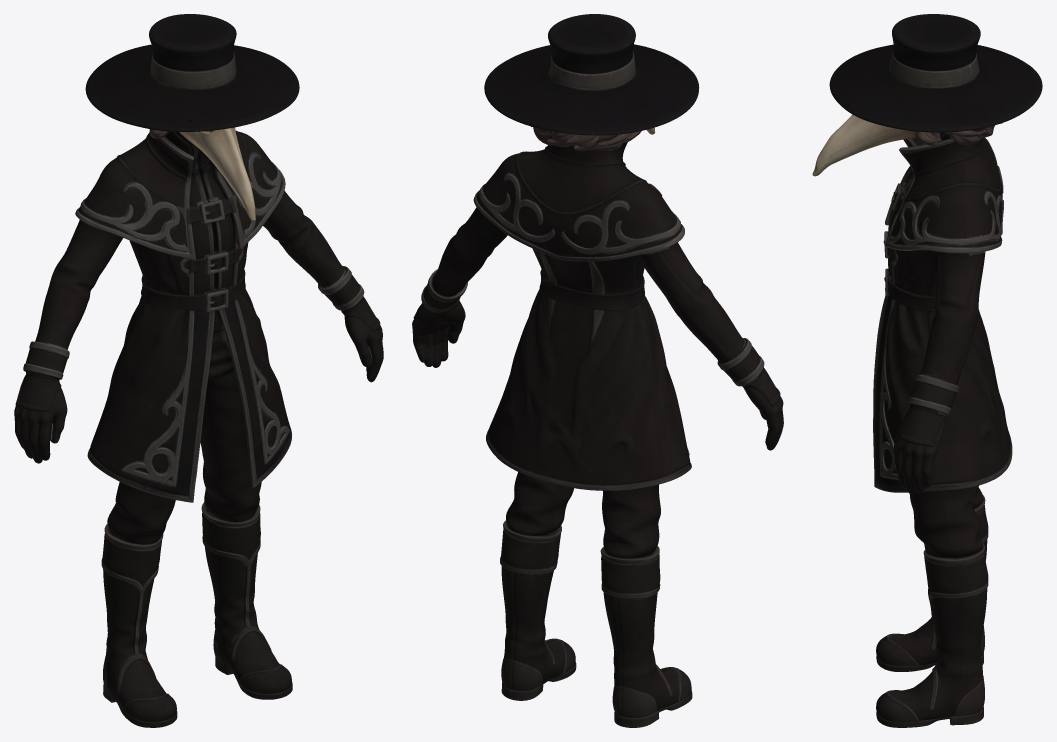
The model's file is plague-doctor.glb.
The picture shows the model from 3 angles, left to right: view 1: azimuth 30°, elevation 25°; view 2: azimuth 150°, elevation 25°; view 3: azimuth 270°, elevation 25°; orthographic projection.
Parts seen in each view (by area): view 1: plague-doctor; view 2: plague-doctor; view 3: plague-doctor.
Boxes of the visible parts, x1,y1,x2,y2 form: plague-doctor: [14, 14, 383, 727]; plague-doctor: [412, 14, 783, 727]; plague-doctor: [812, 14, 1042, 727].
Bounding box in the file's own units: 1.09 × 1.9 × 0.5992.
1 material, 1 textured.
